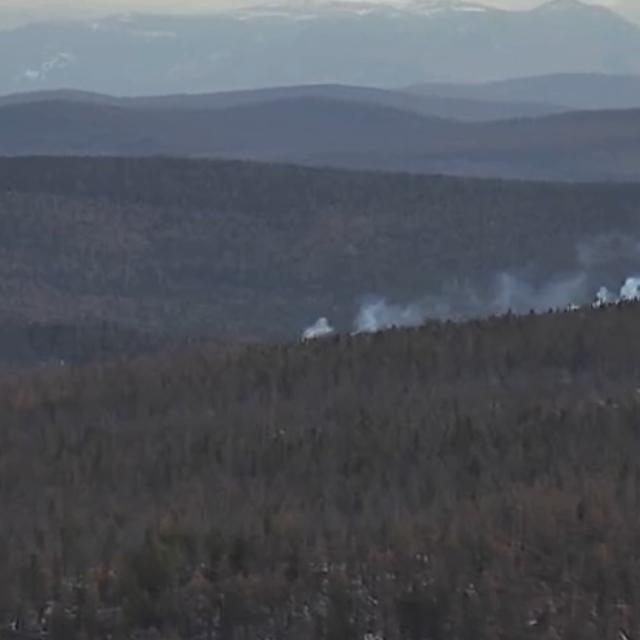Smoke: (297, 238, 640, 339)
